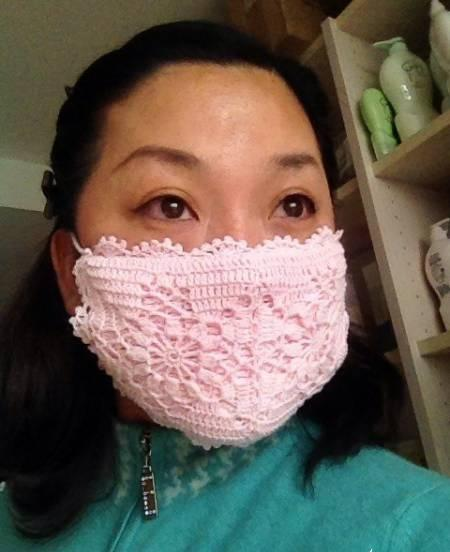WRONG: (64, 148, 356, 448)
